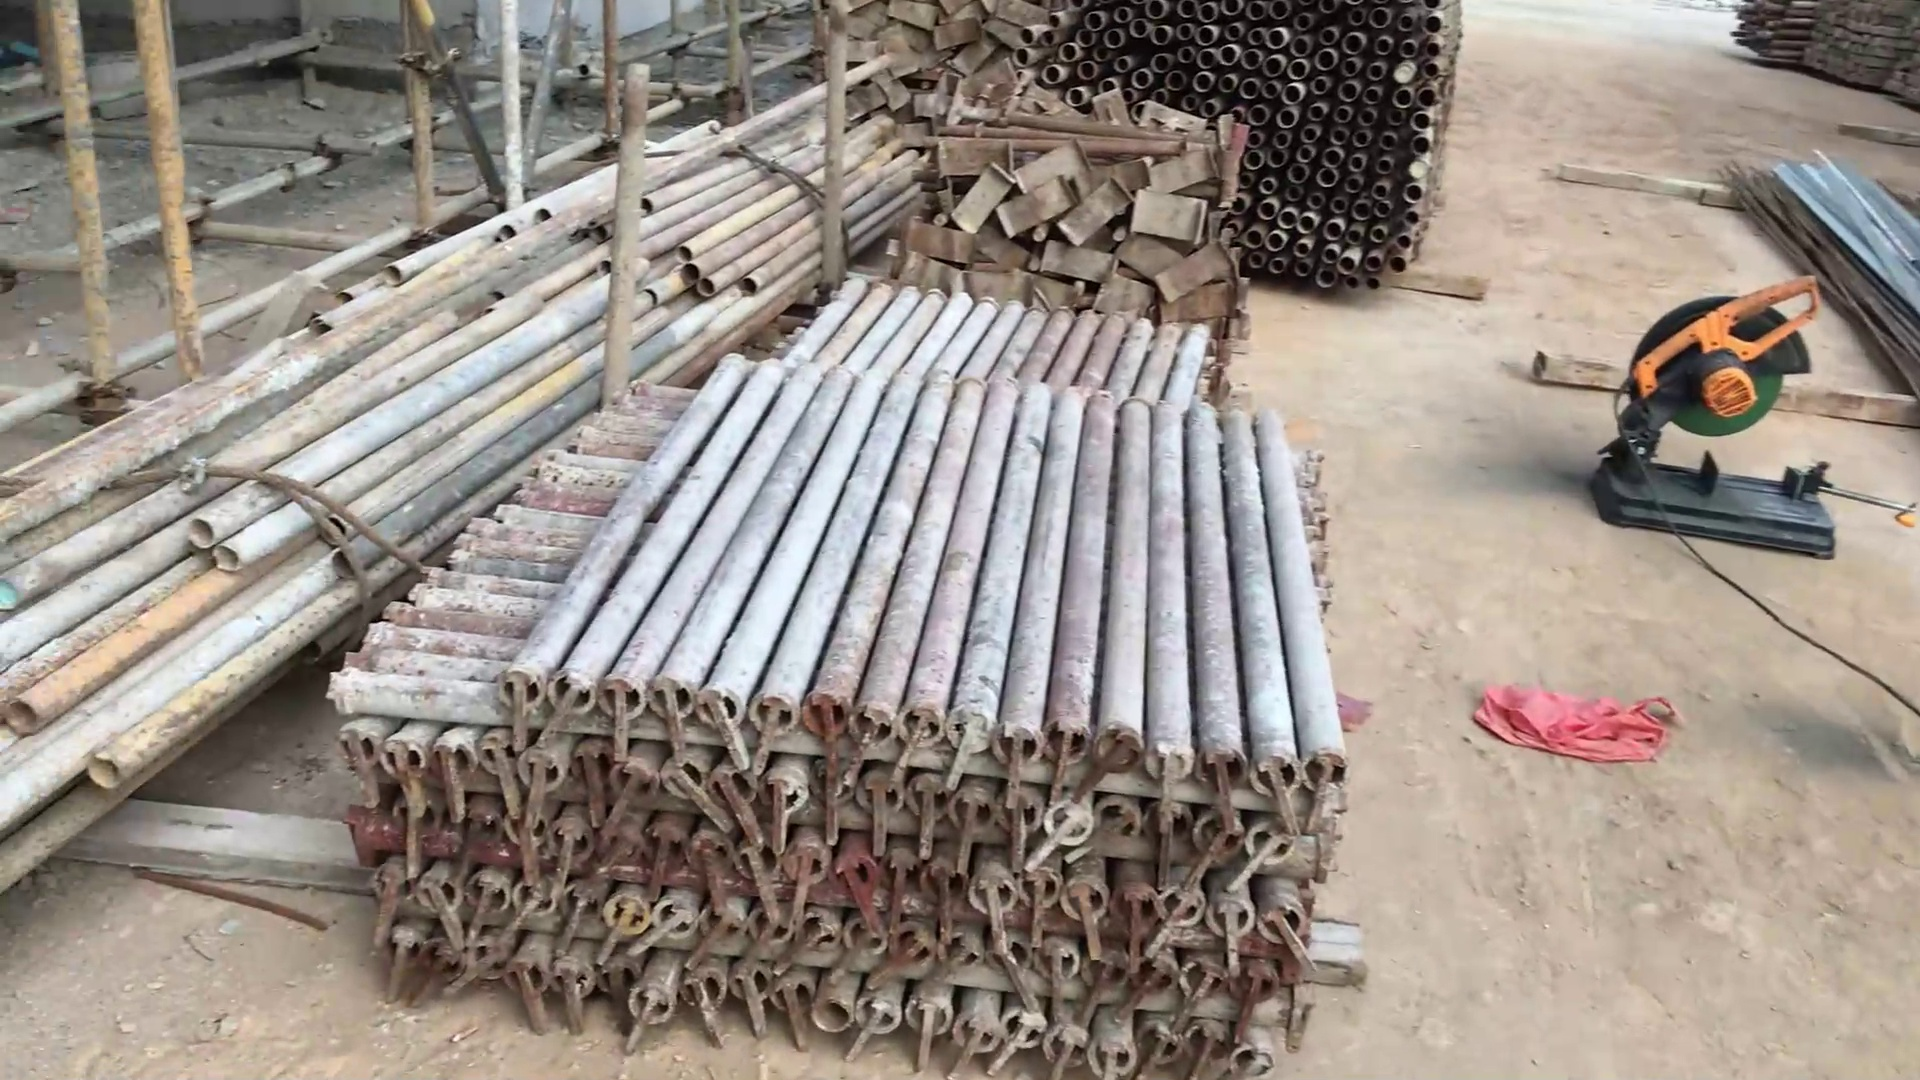cutter: (1569, 262, 1850, 564)
scaffold: (336, 340, 1375, 1033), (1013, 1, 1451, 301)
